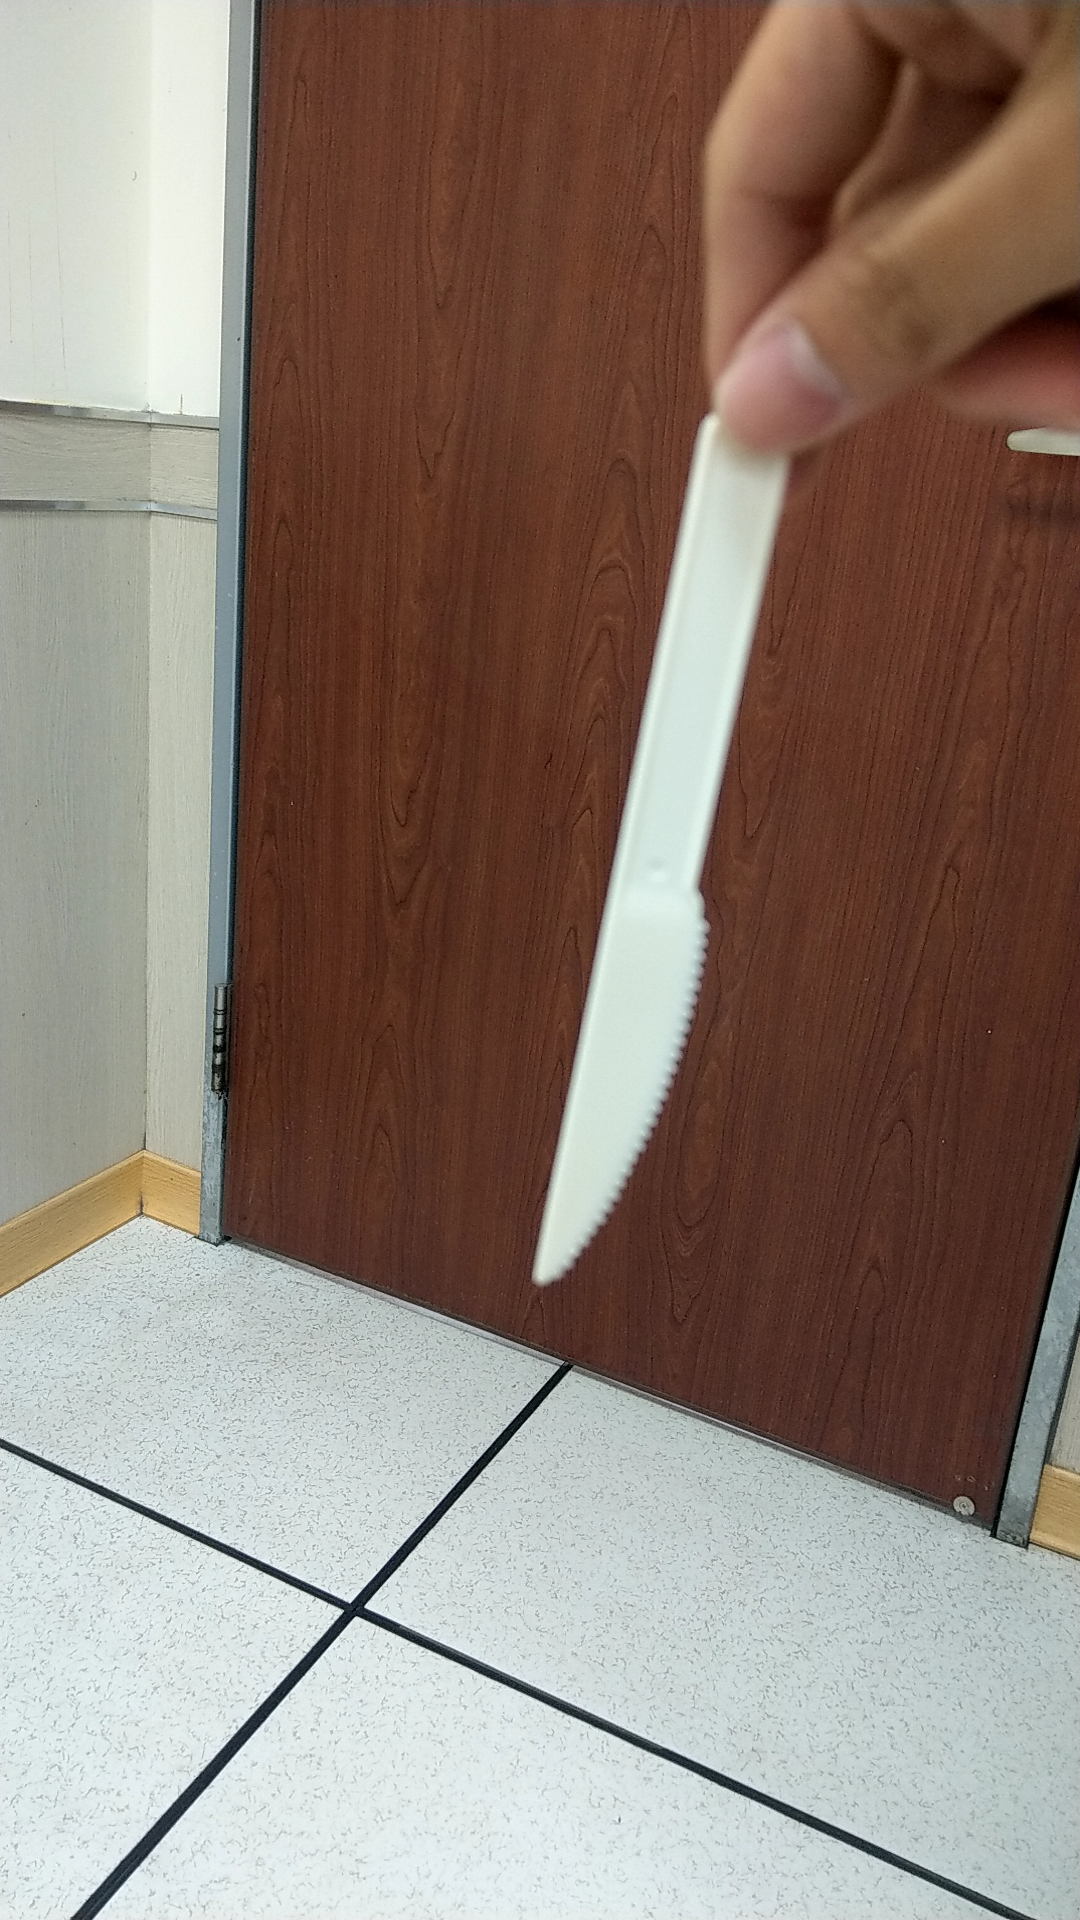knife: (525, 411, 783, 1323)
